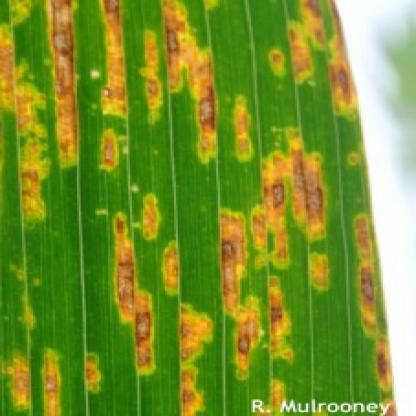corn gray leaf spot: (2, 1, 400, 415)
